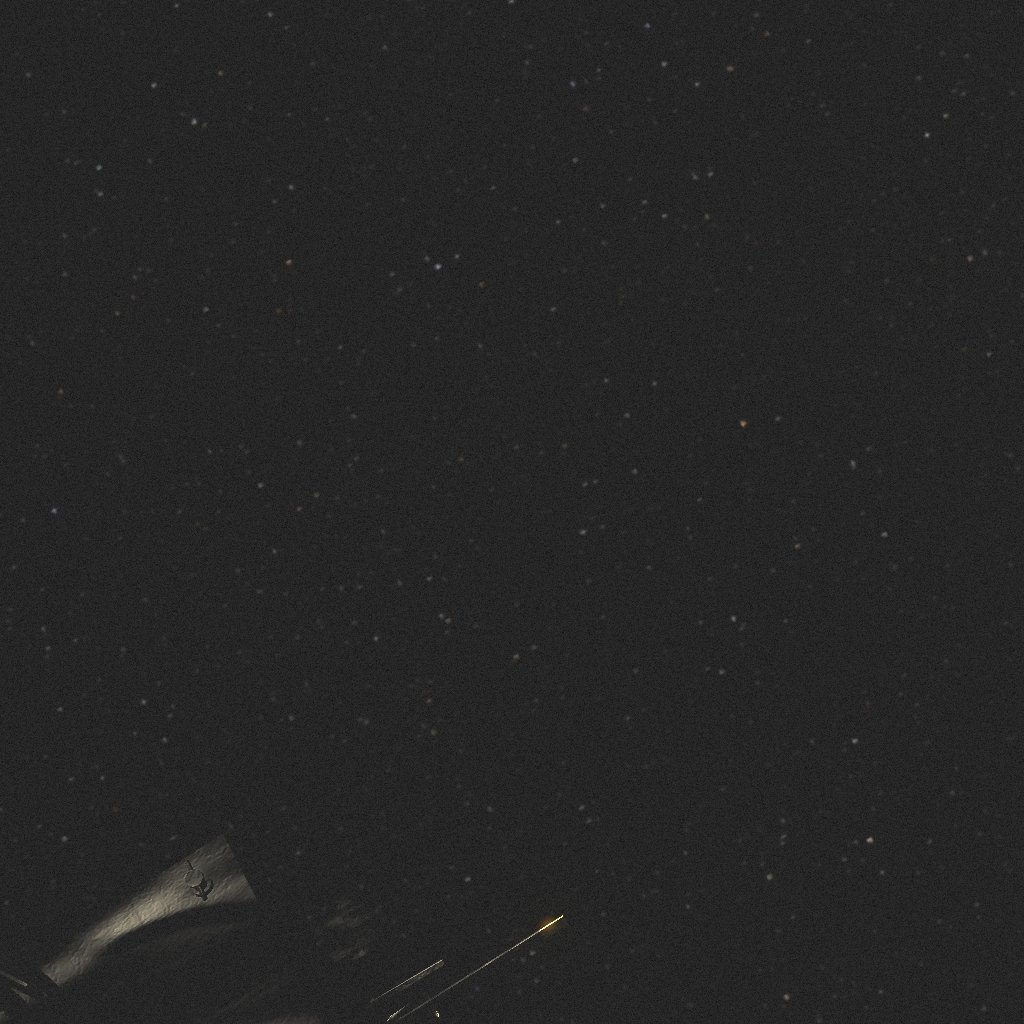smart_1: (39, 754, 592, 1009)
